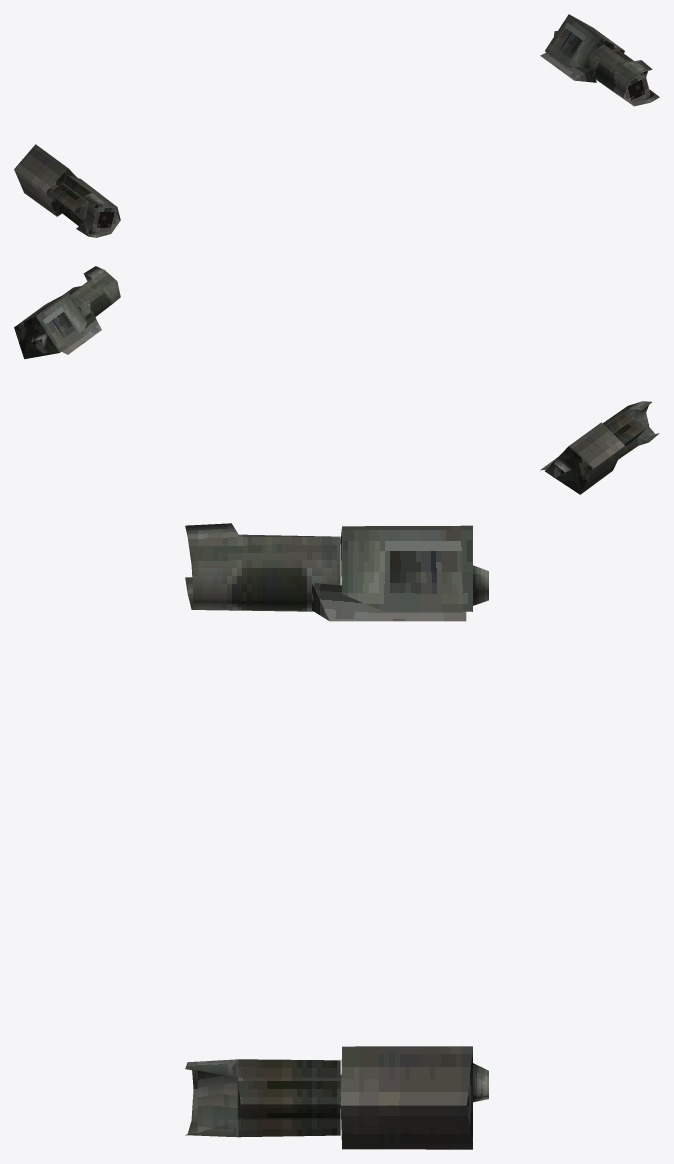
The model's file is black_sun_fighter_medium_weapon2_s01_l2.fbx.
The picture shows the model from 3 angles, top to bottom: view 1: azimuth 30°, elevation 25°; view 2: azimuth 150°, elevation 25°; view 3: azimuth 270°, elevation 25°; orthographic projection. The views are drawn at different scales.
Visible parts, largest first — view 1: mesh_node; view 2: mesh_node; view 3: mesh_node.
Part boxes in pixels (<box>): mesh_node: <box>14,14,659,237</box>; mesh_node: <box>14,266,659,494</box>; mesh_node: <box>185,523,488,1149</box>.
Size of the model in its own units: 7.55 by 0.5743 by 1.71.
Materials: 1 (1 with a texture image).
